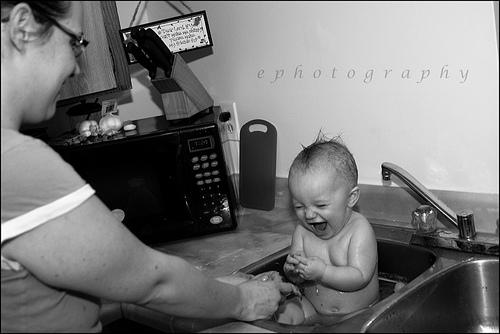garlic: (76, 120, 103, 138), (99, 113, 124, 131), (124, 124, 136, 130)
